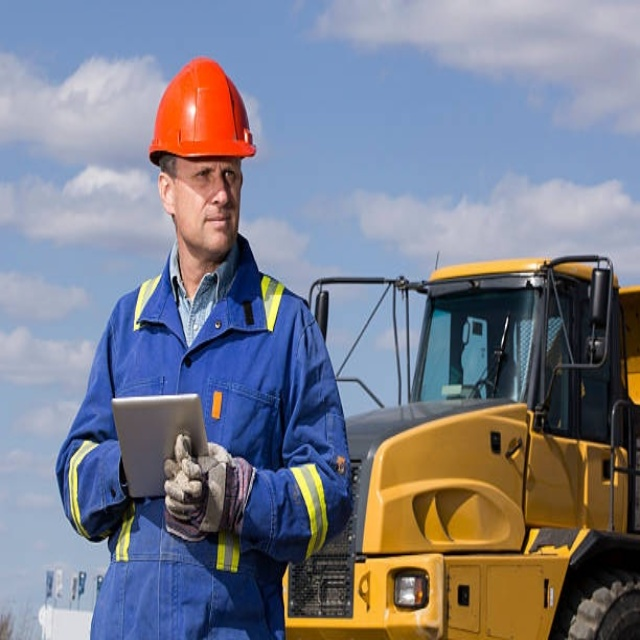Guantes: (164, 437, 254, 540)
Sin_gafas: (187, 160, 238, 190)
Sin_mascara: (202, 210, 233, 246)
